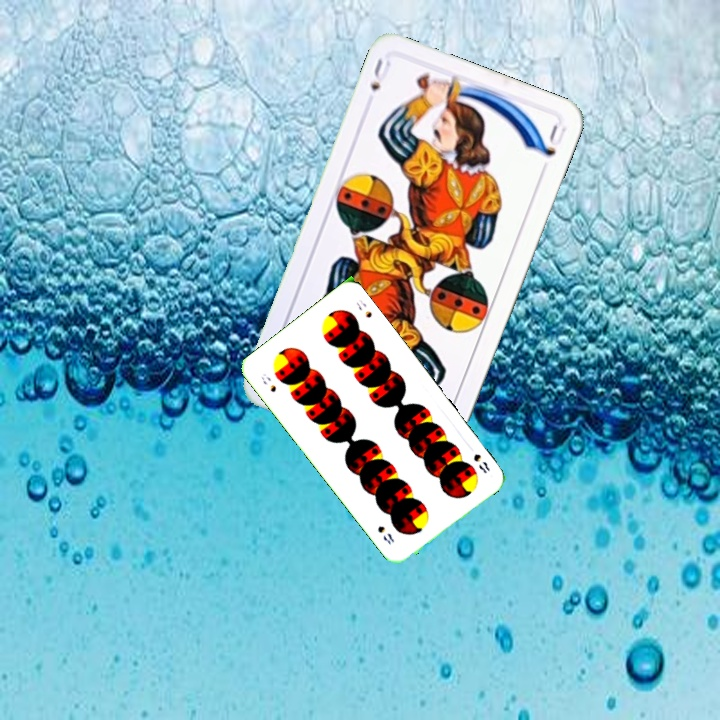S8: (469, 449, 492, 476), (257, 369, 279, 395)
SU: (366, 54, 390, 94)
